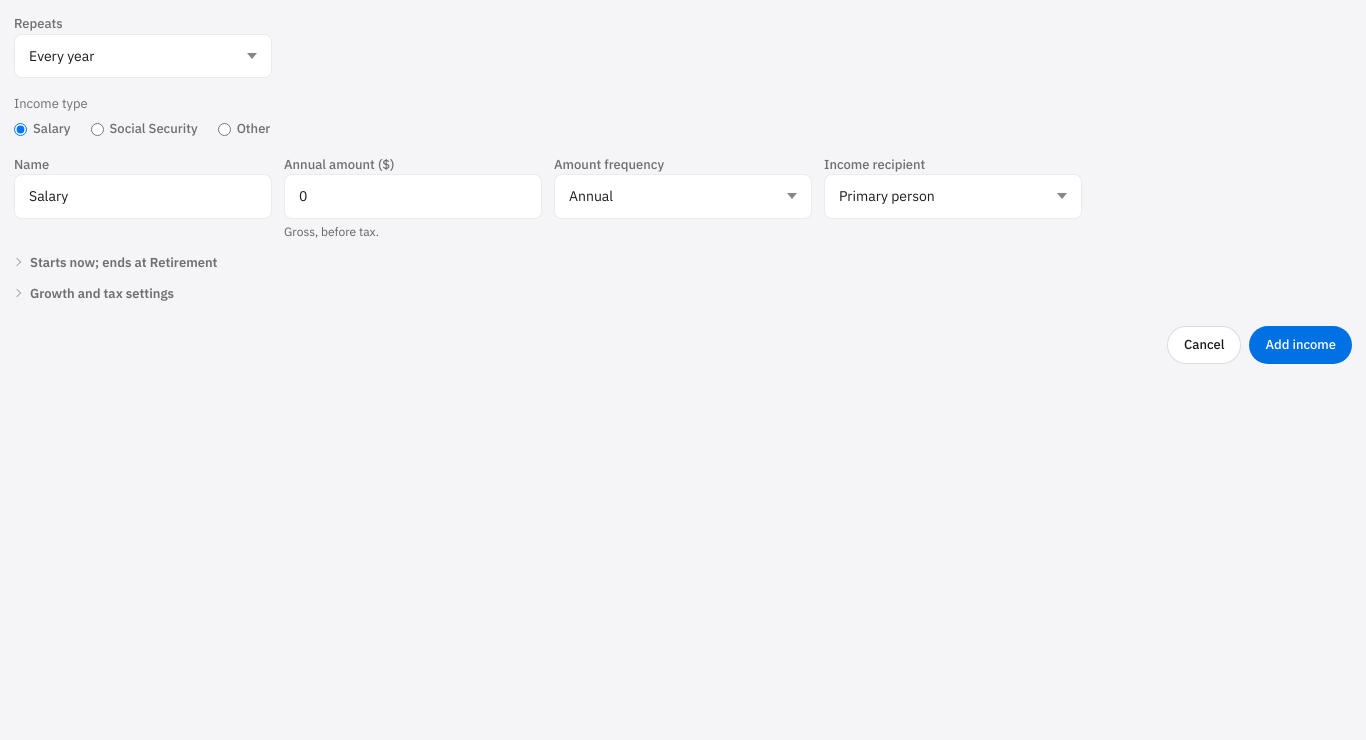
Test: IncomeForm › defaults a new salary's name and end to the Retirement milestone, and swaps both for Social Security
This screenshot has width=1366, height=740.
expect the radio button labelled "Salary" is checked: met, box [14,122,27,136]
expect the field labelled "Name" holds "Salary": met, box [14,174,272,219]
Click the radio button labelled "Social Security".
click(97, 129)  # box [90,122,104,136]
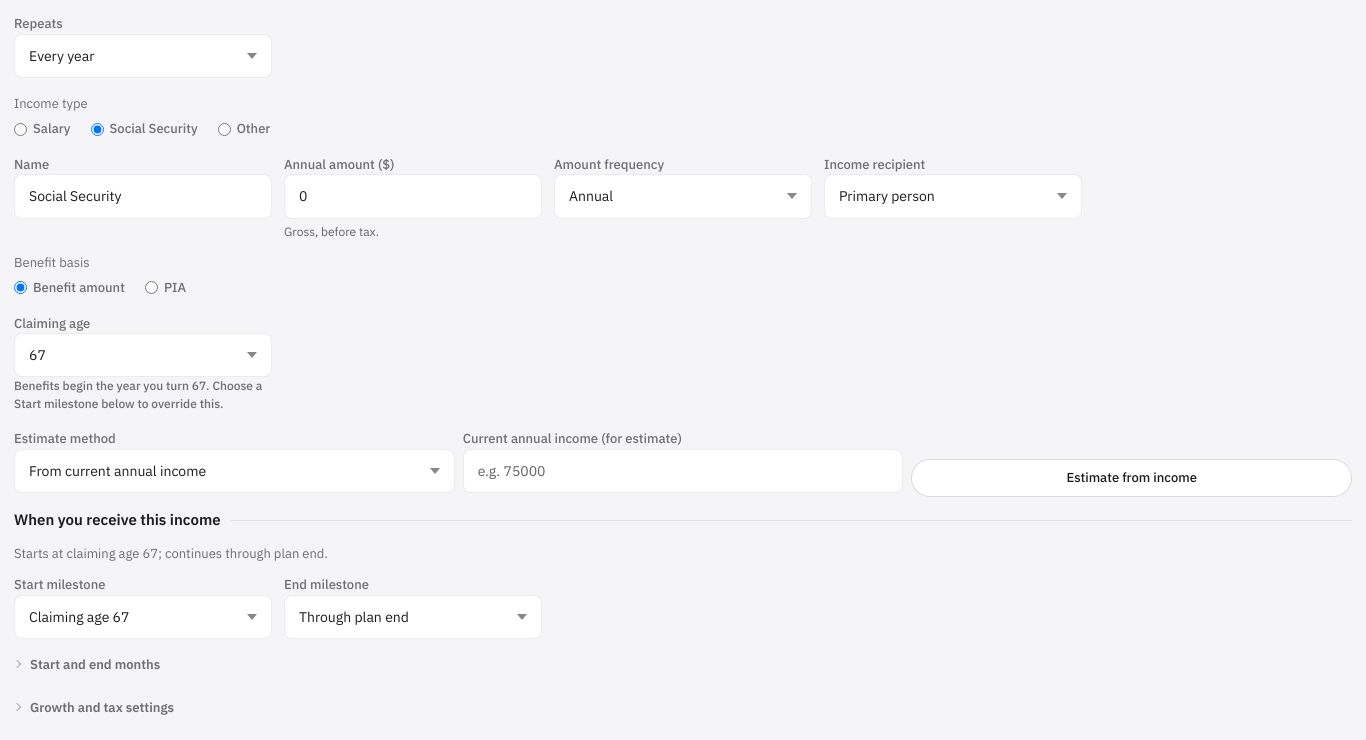
expect the field labelled "Name" holds "Social Security": met, box [14,174,272,219]
expect the dropdown labelled "End milestone" shows "Through plan end": met, box [284,595,542,639]
Click the radio button labelled "Salary".
click(20, 129)  # box [14,122,27,136]
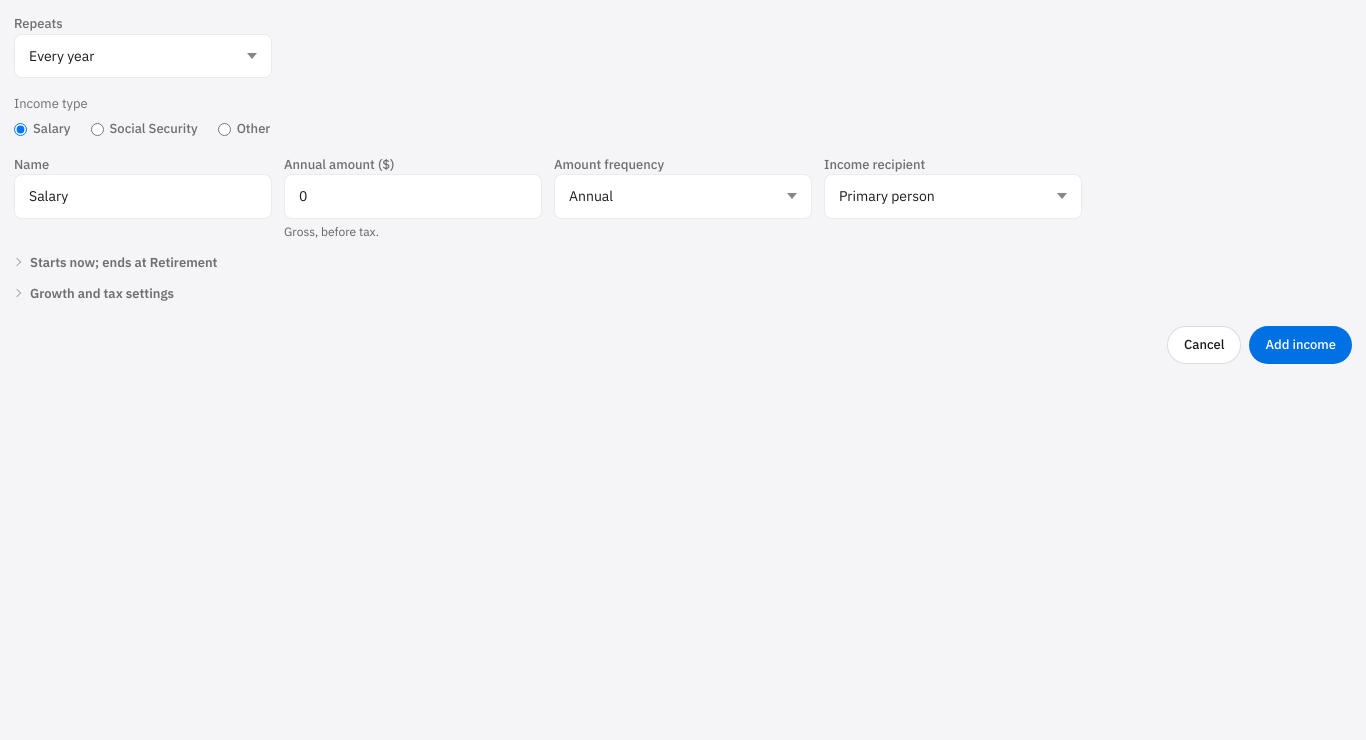
expect the field labelled "Name" holds "Salary": met, box [14,174,272,219]
